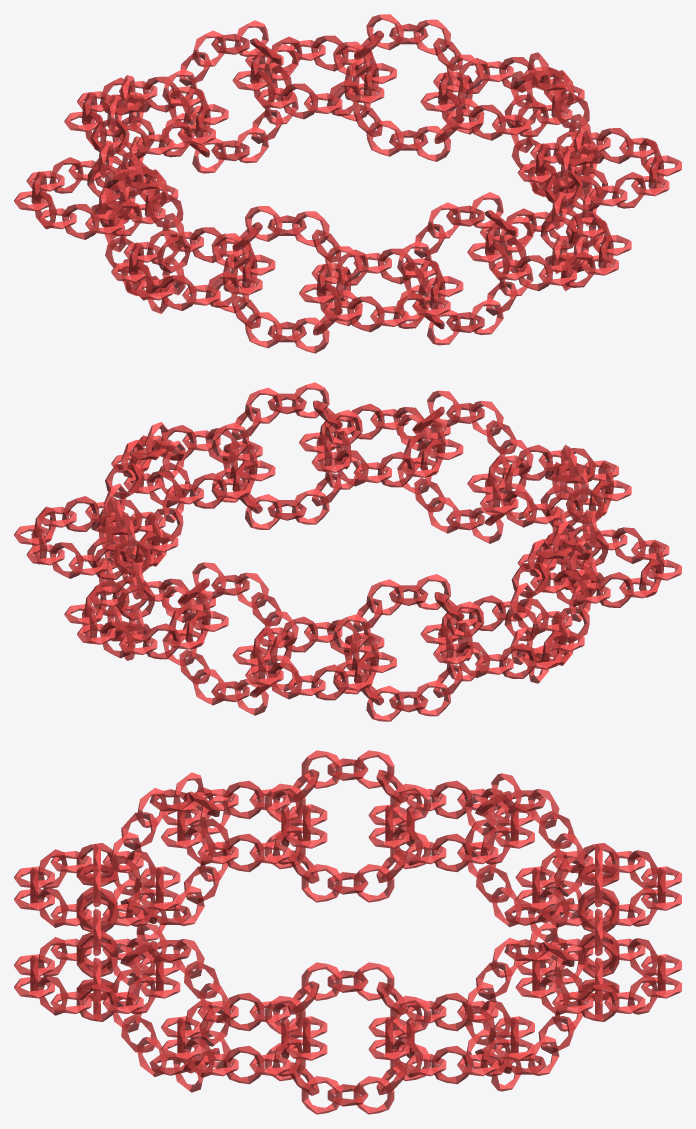
Rendered from fractalhexagonaltrapezohedrontoroid2.glb.
3 views of the same model, one above another, from view 1: azimuth 30°, elevation 25°; view 2: azimuth 150°, elevation 25°; view 3: azimuth 270°, elevation 25° (orthographic). The views are drawn at different scales.
Bounding box in the file's own units: 10.65 × 2.65 × 10.65.
